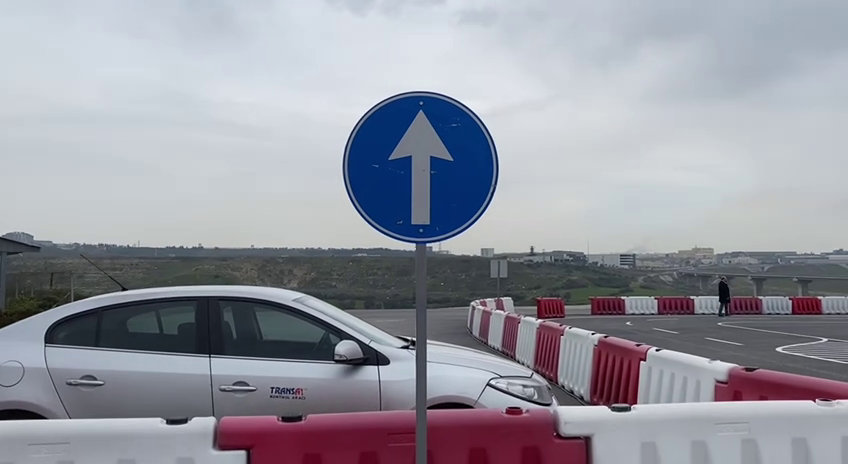forward: (337, 85, 503, 250)
